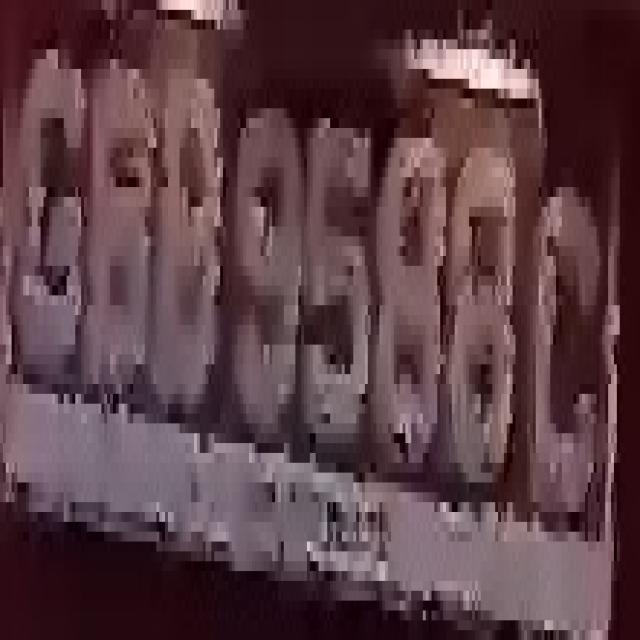5: (301, 79, 374, 472)
8: (379, 99, 446, 482), (449, 118, 515, 502)
9: (229, 69, 298, 443)
B: (145, 69, 237, 423), (84, 29, 148, 394)
C: (533, 168, 605, 552)
G: (20, 30, 81, 384)
